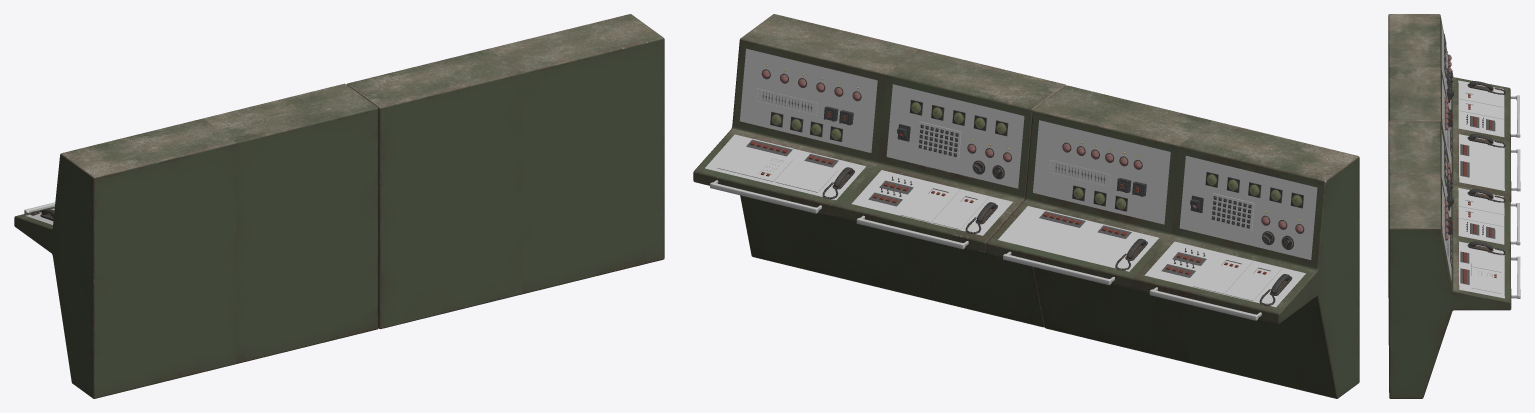
File: Control_Panel.fbx
The picture shows the model from 3 angles, left to right: view 1: azimuth 30°, elevation 25°; view 2: azimuth 150°, elevation 25°; view 3: azimuth 270°, elevation 25°; orthographic projection. The views are drawn at different scales.
Visible parts, largest first — view 1: Cube.028, Cube.338, Cube.359, Cube.421; view 2: Cube.028, Cube.338, Cube.421, Cube.359, Cube.045, Cube.048, Cube.051, Cube.029, Cube.292, Cube.052, Cube.046, Cube.049 (+6 smaller); view 3: Cube.421, Cube.359, Cube.338, Cube.028, Cube.292, Cube.052, Cube.046, Cube.049, Cube.329, Cube.044, Cube.045, Cube.048 (+6 smaller).
Part boxes in pixels (x1,y1,x2,y2): Cube.028: [14, 118, 236, 398]; Cube.338: [346, 48, 522, 329]; Cube.359: [203, 83, 378, 363]; Cube.421: [489, 14, 664, 294]; Cube.028: [1132, 120, 1359, 398]; Cube.338: [839, 49, 1066, 327]; Cube.421: [693, 14, 919, 291]; Cube.359: [986, 85, 1212, 363]; Cube.045: [1033, 120, 1170, 224]; Cube.048: [740, 48, 877, 152]; Cube.051: [886, 84, 1024, 188]; Cube.029: [1179, 155, 1317, 259]; Cube.292: [1144, 241, 1305, 307]; Cube.052: [851, 170, 1012, 235]; Cube.046: [998, 206, 1158, 271]; Cube.049: [705, 134, 865, 199]; Cube.421: [1388, 174, 1511, 398]; Cube.359: [1388, 67, 1511, 202]; Cube.338: [1388, 121, 1510, 297]; Cube.028: [1388, 14, 1510, 141]; Cube.292: [1458, 80, 1504, 136]; Cube.052: [1458, 188, 1504, 244]; Cube.046: [1459, 134, 1504, 190]; Cube.049: [1459, 241, 1504, 298]; Cube.329: [1471, 267, 1501, 293]; Cube.044: [1471, 251, 1501, 272]; Cube.045: [1442, 78, 1451, 173]; Cube.048: [1442, 185, 1451, 281].
Bounding box in the file's own units: 395 × 147 × 103.
